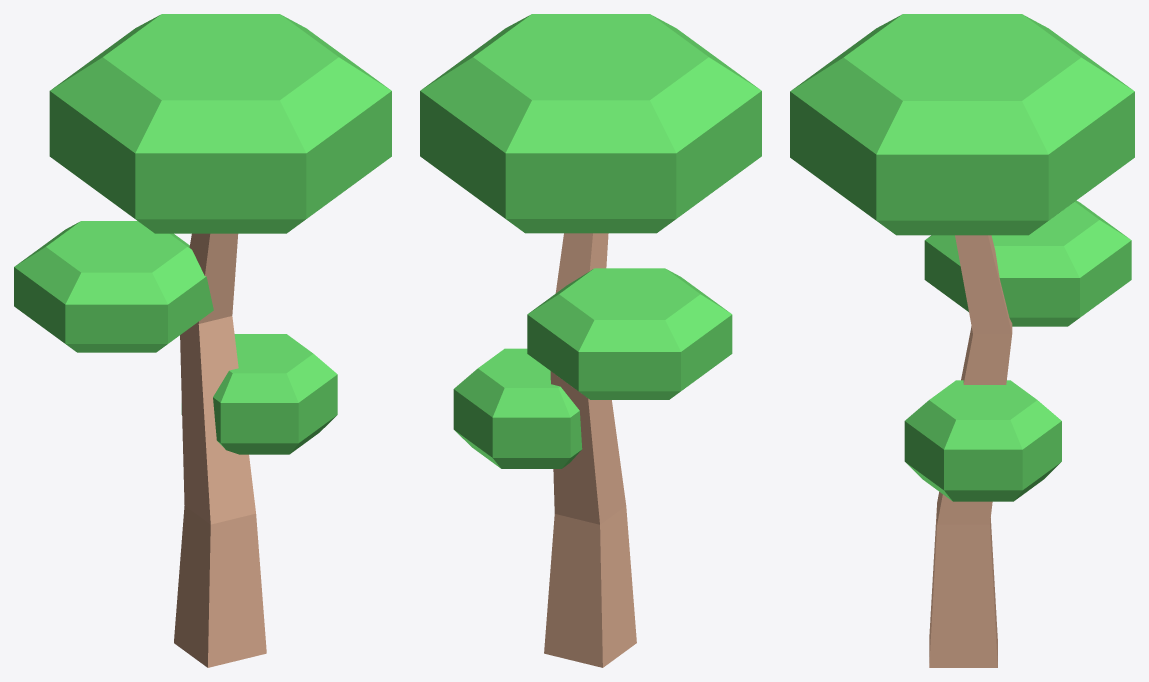
Rendered from n_tree_plateau.glb.
3 views of the same model, side by side, from view 1: azimuth 30°, elevation 25°; view 2: azimuth 150°, elevation 25°; view 3: azimuth 270°, elevation 25° (orthographic).
Visible parts, largest first — view 1: tree_plateau; view 2: tree_plateau; view 3: tree_plateau.
Boxes of the visible parts, <box> form: tree_plateau: <box>14,14,391,667</box>; tree_plateau: <box>420,14,761,667</box>; tree_plateau: <box>790,14,1134,667</box>.
Size of the model in its own units: 2.69 by 5.5 by 2.88.
